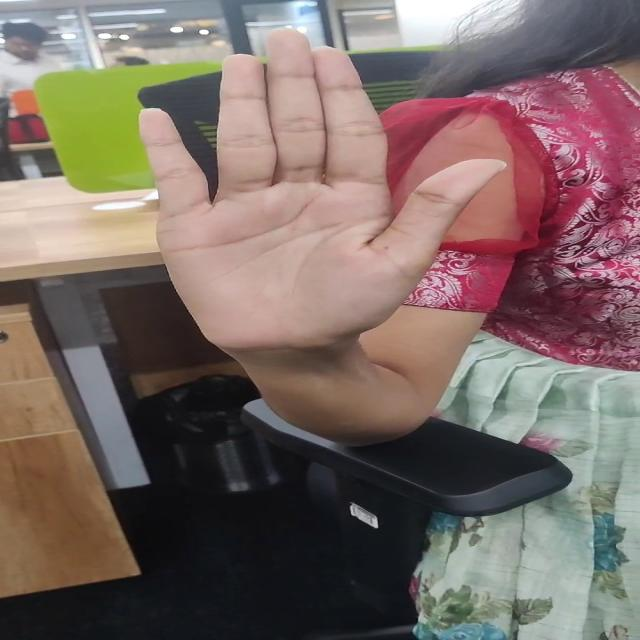no-gloves: (112, 19, 524, 352)
